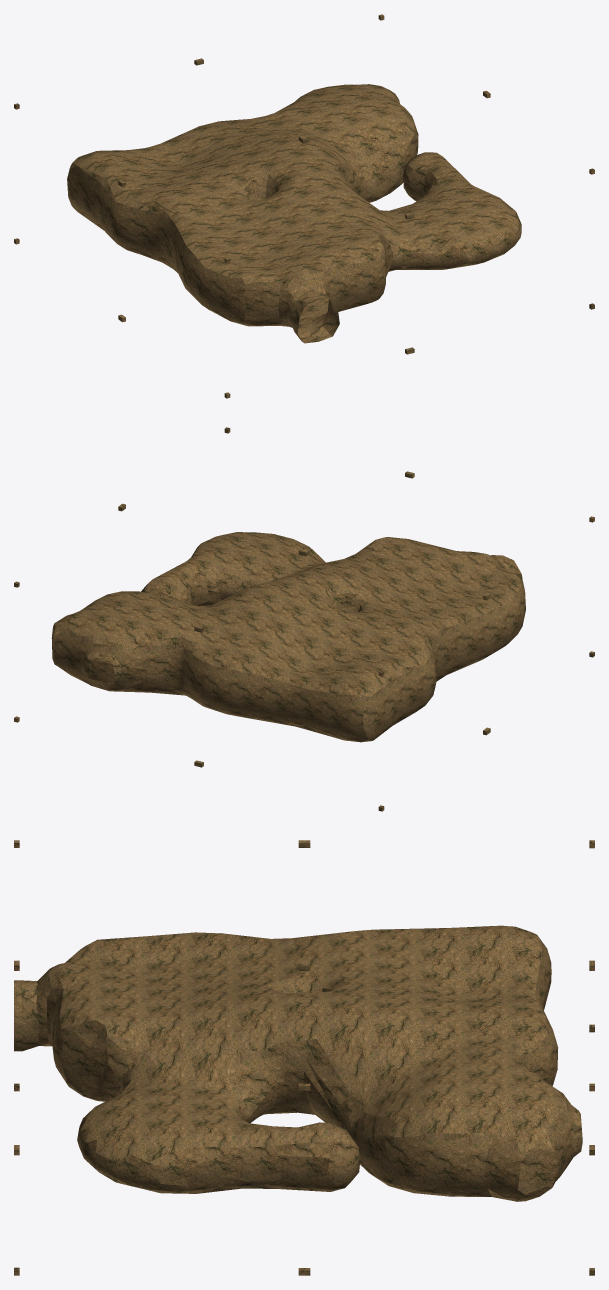
Rendered from lba_1h.glb.
3 views of the same model, one above another, from view 1: azimuth 30°, elevation 25°; view 2: azimuth 150°, elevation 25°; view 3: azimuth 270°, elevation 25° (orthographic). The views are drawn at different scales.
Parts seen in each view (by area): view 1: lba_1h; view 2: lba_1h; view 3: lba_1h.
Part boxes in pixels (x1,y1,x2,y2): lba_1h: (14, 14, 594, 398); lba_1h: (14, 427, 594, 811); lba_1h: (14, 840, 594, 1275).
Bounding box in the file's own units: 30 × 10.8 × 30.
Materials: 1 (1 with a texture image).
